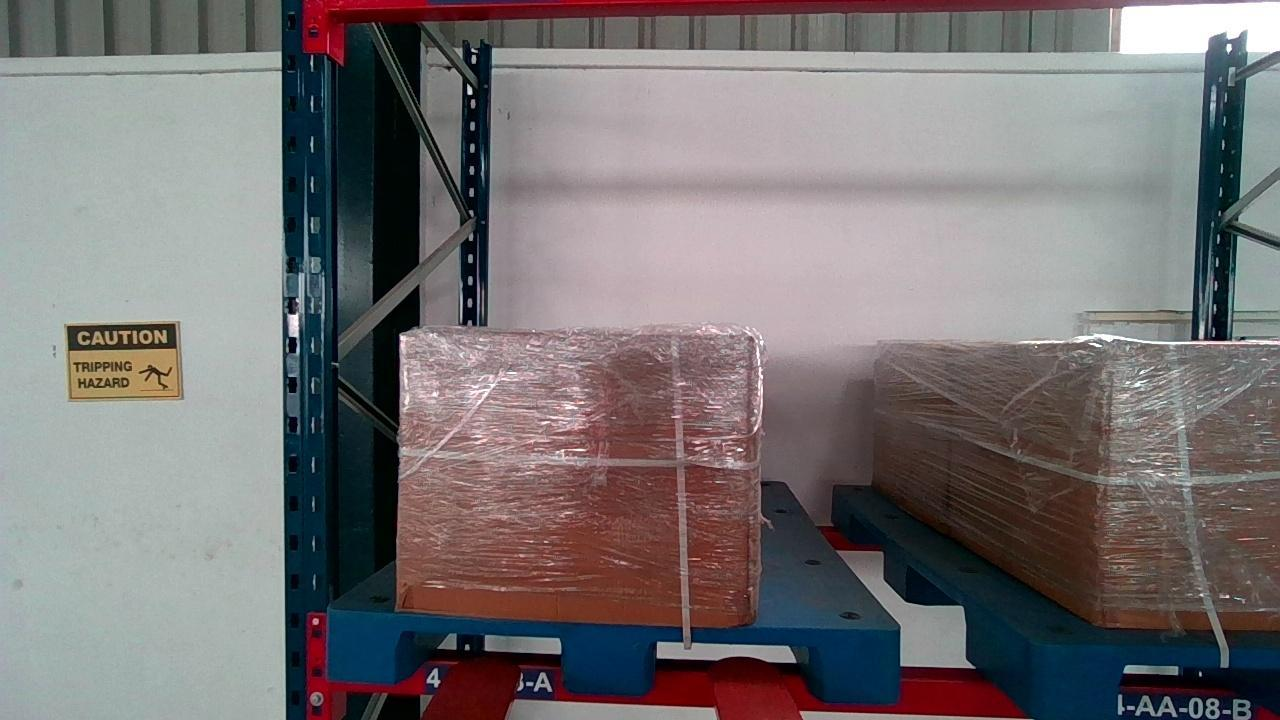h_rack: (328, 665, 1279, 720)
small_pallet: (328, 611, 905, 698), (1045, 642, 1280, 712)
